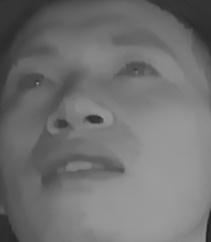eye: (113, 57, 163, 84), (17, 70, 54, 93)
mouth: (37, 147, 129, 197)
